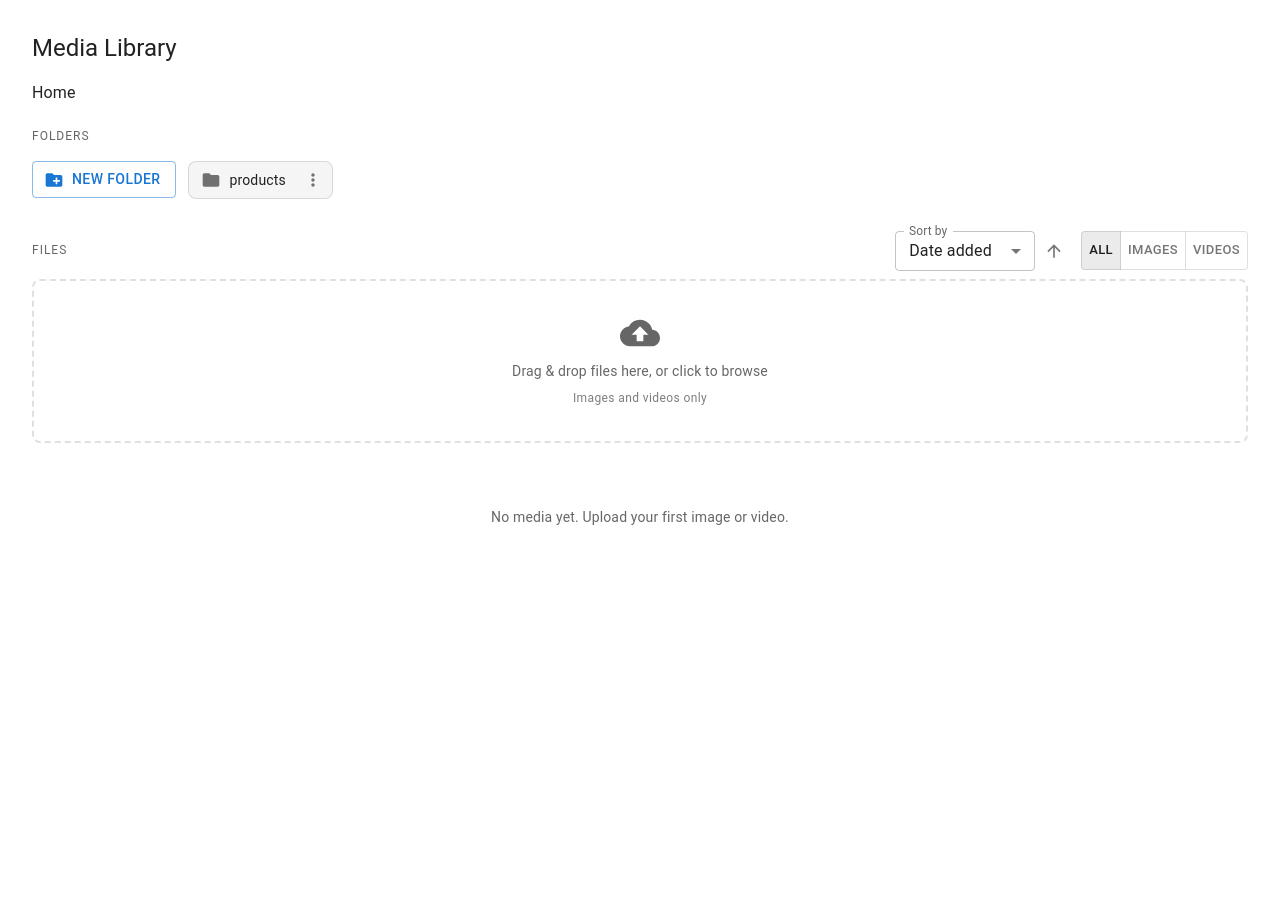
MediaPage › navigates into a folder when its tile is clicked
The width and height of the screenshot is (1280, 900).
Click the button with aria-label "Open folder products": [244, 180] box [189,162,298,198]
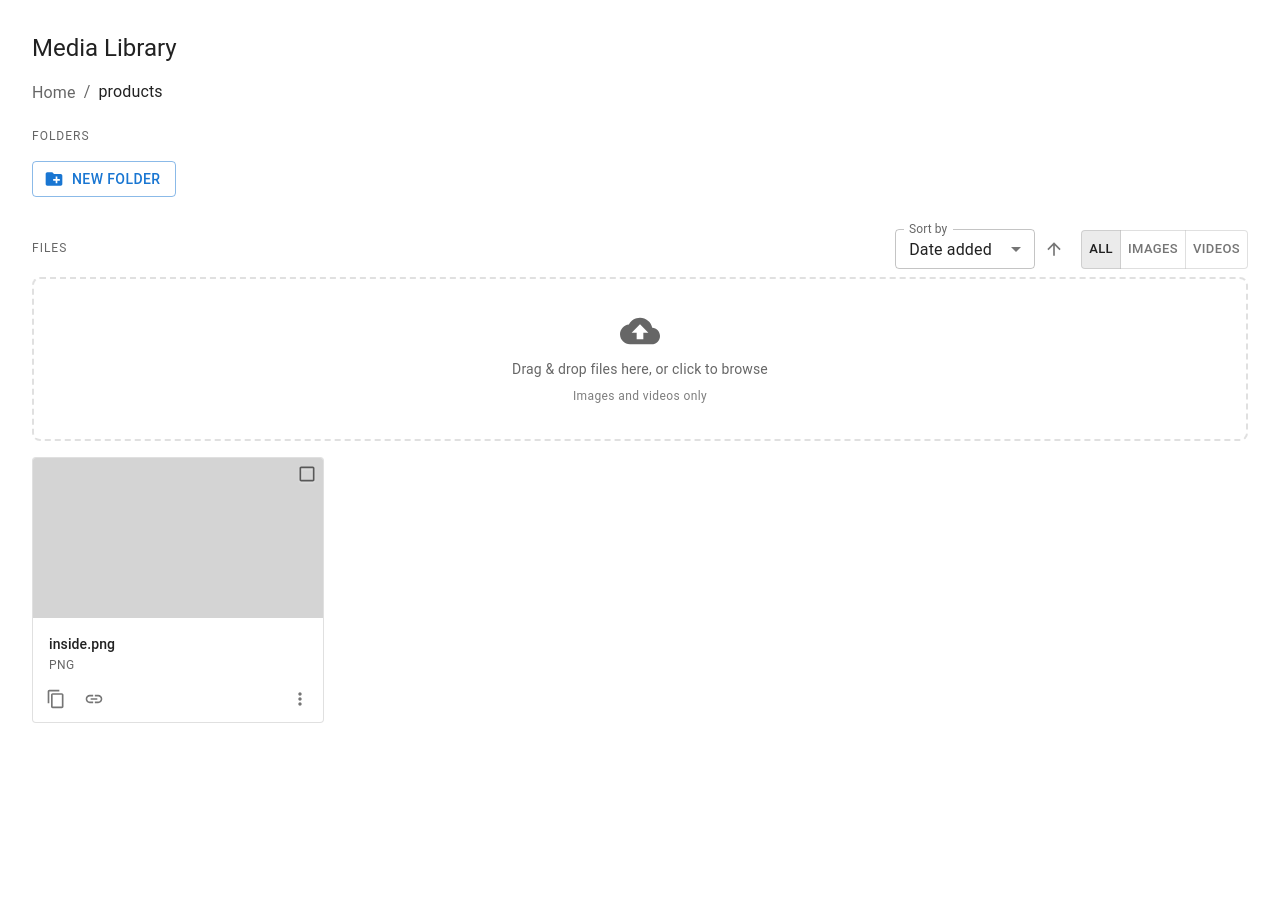
Check: the heading "inside.png" is shown, box [49,636,115,652]
